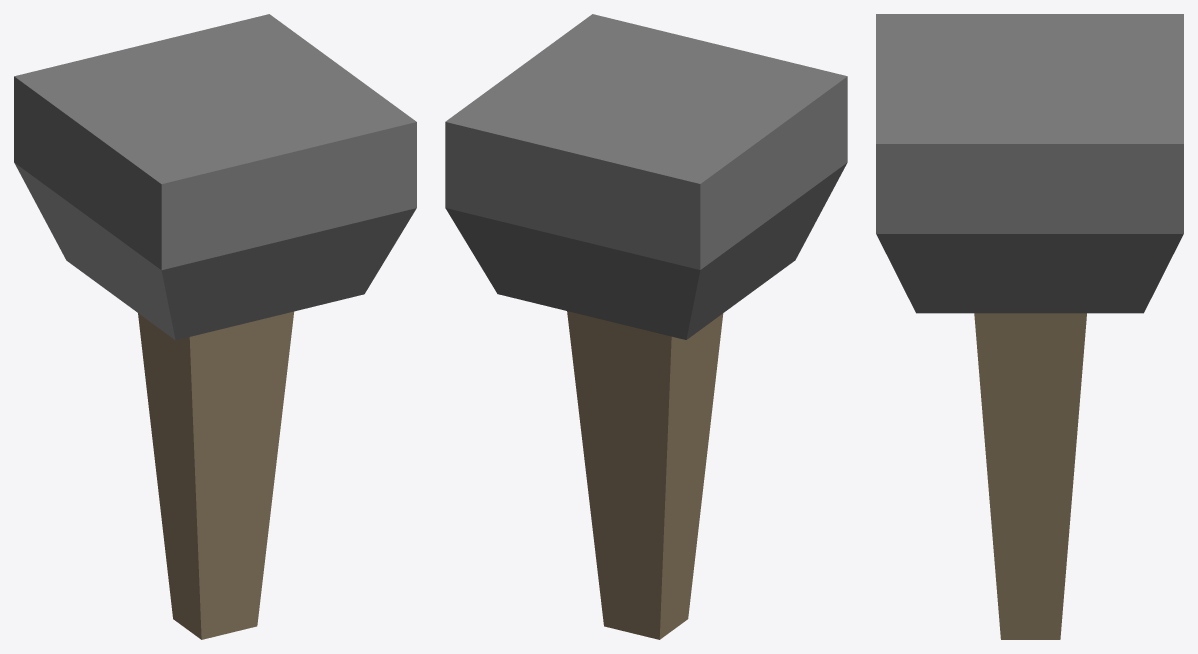
Rendered from Wooden-Leg.fbx.
The picture shows the model from 3 angles, left to right: view 1: azimuth 30°, elevation 25°; view 2: azimuth 150°, elevation 25°; view 3: azimuth 270°, elevation 25°; orthographic projection. The views are drawn at different scales.
Visible parts, largest first — view 1: Leg; view 2: Leg; view 3: Leg.
Boxes of the visible parts, x1=… form: Leg: x1=14, y1=14, x2=416, y2=639; Leg: x1=445, y1=14, x2=847, y2=639; Leg: x1=876, y1=14, x2=1183, y2=639.
Bounding box in the file's own units: 15.29 × 29.98 × 15.29.
